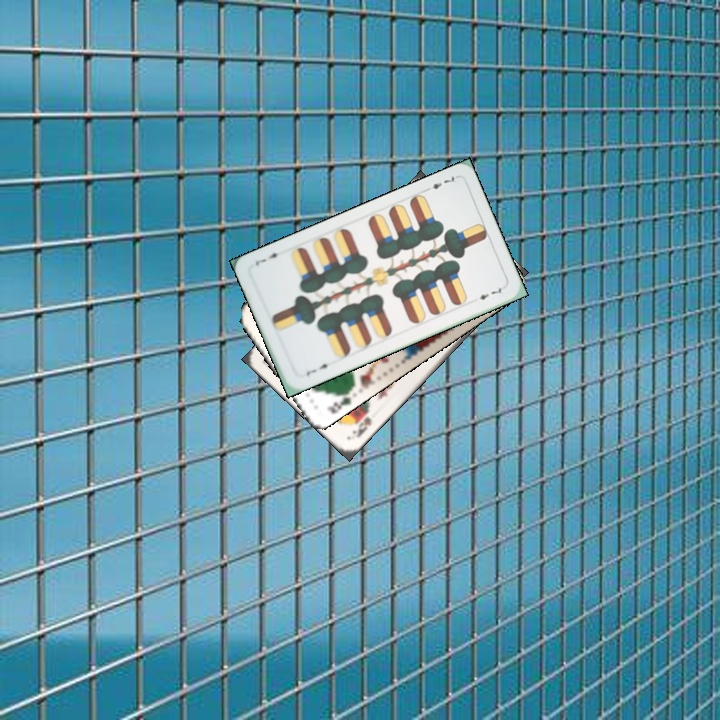E7: (421, 172, 460, 194), (302, 359, 334, 379)
GK: (323, 387, 354, 417)
SK: (348, 412, 374, 441)
